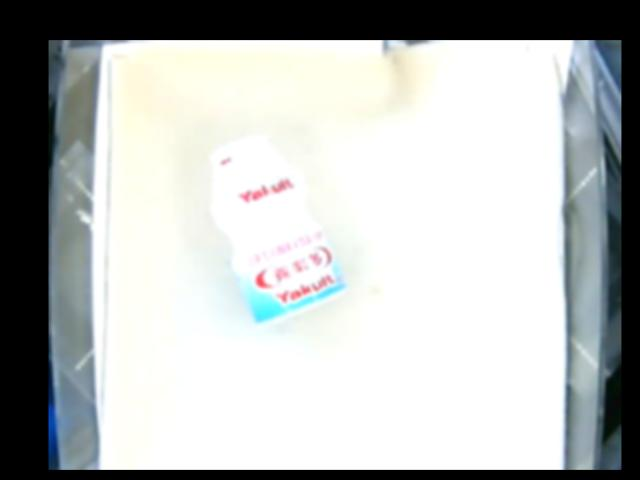Bottle: (205, 134, 346, 326)
